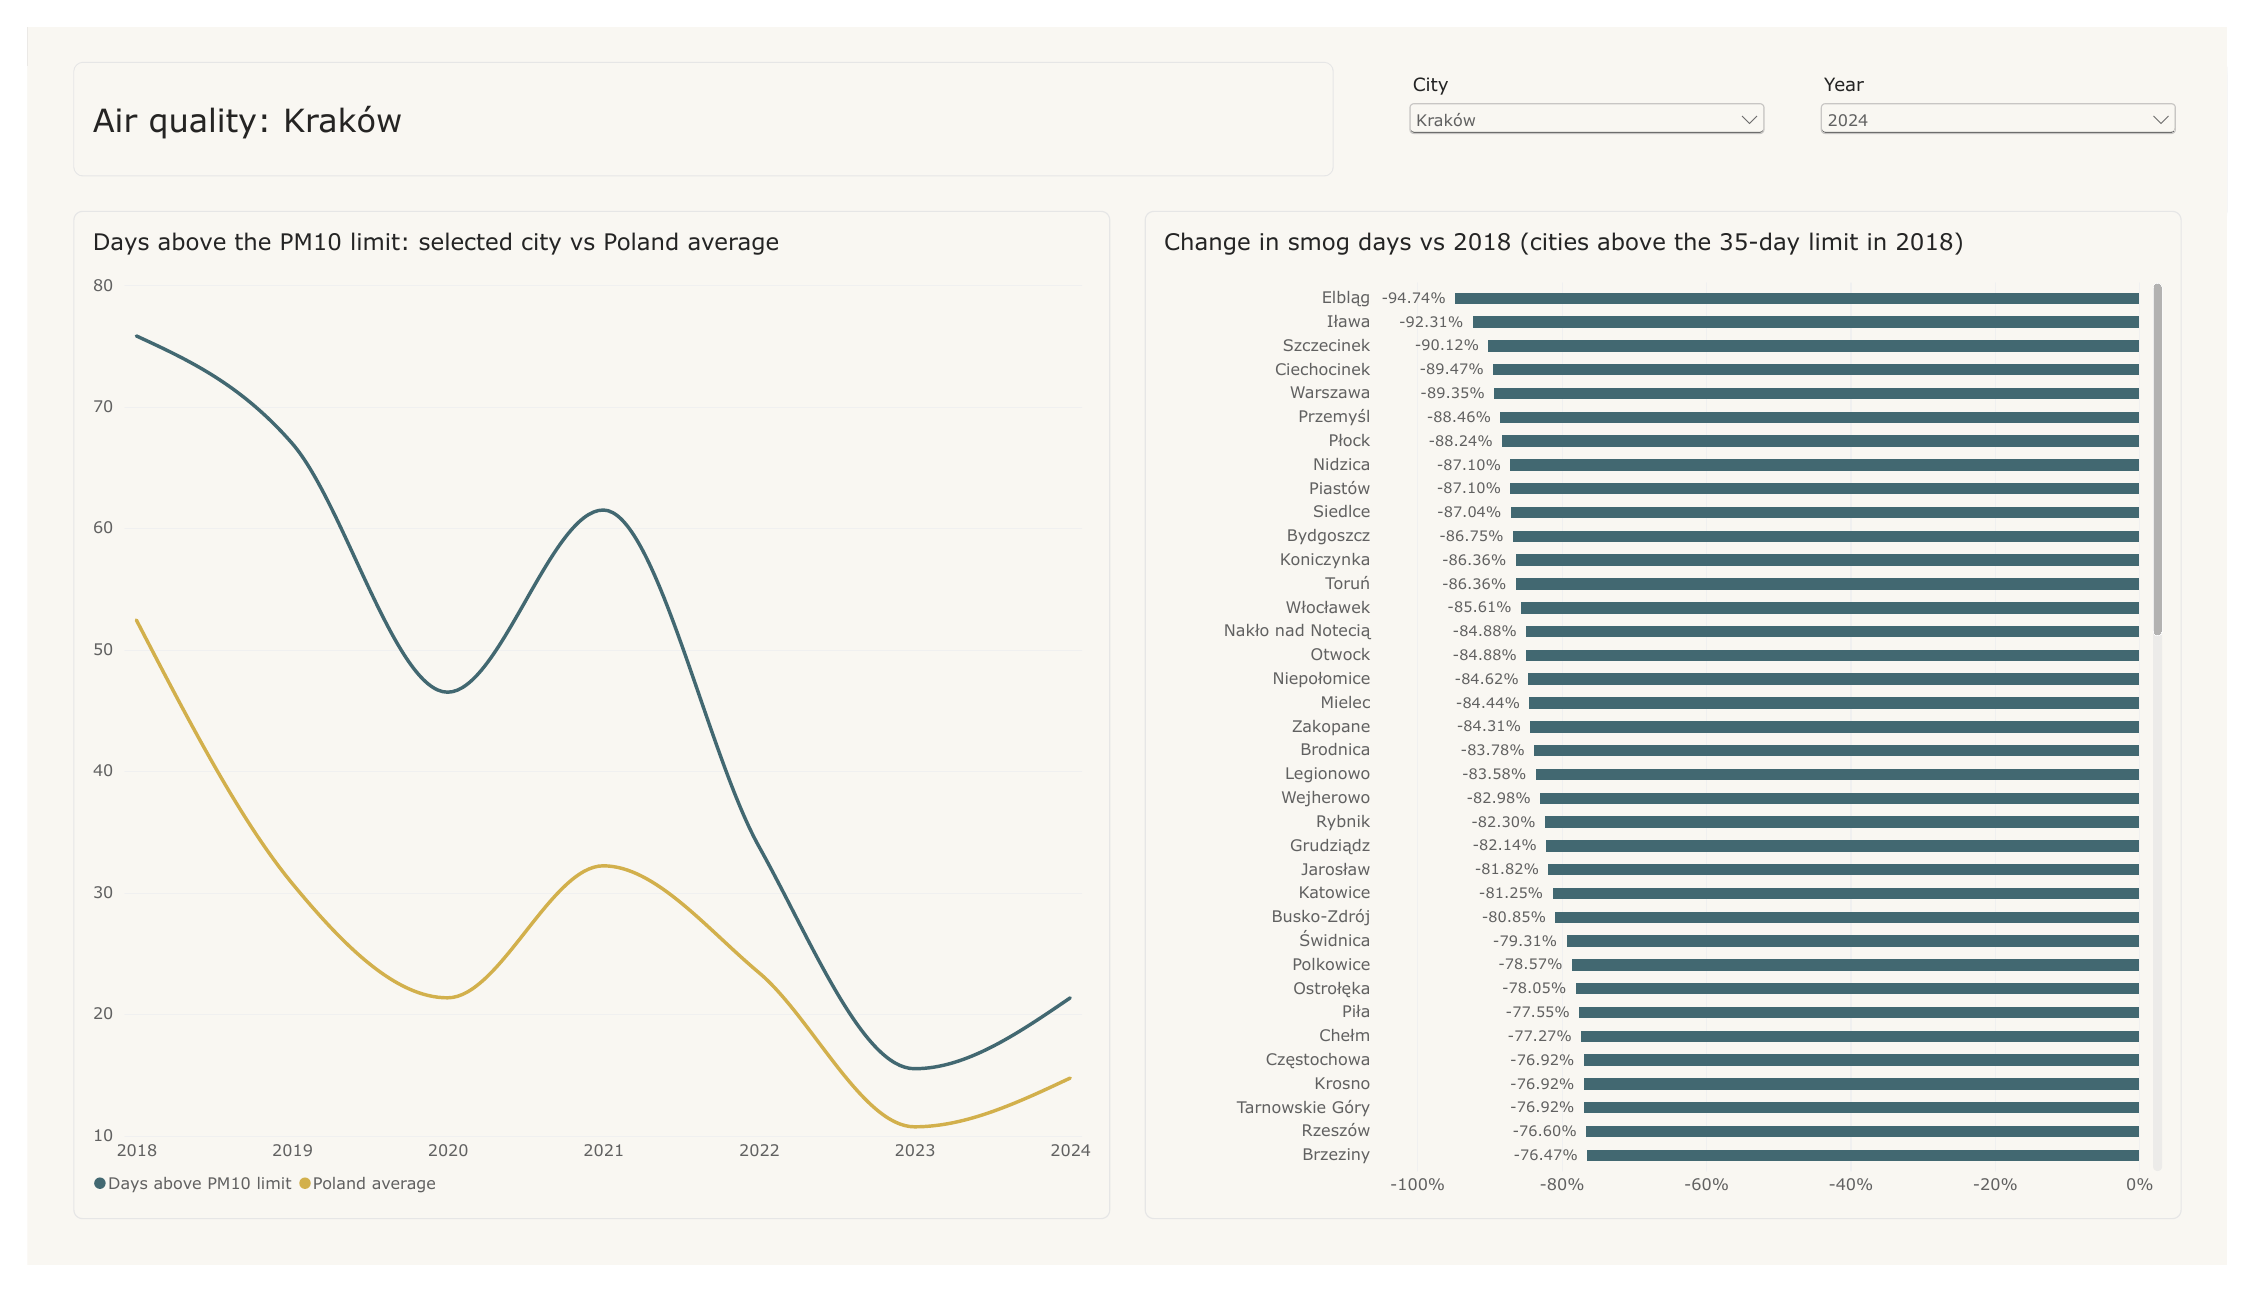

This screenshot's page, from the dashboard's own definition file:
{"tool":"powerbi","page":{"name":"City vs Poland","canvas":[1920,1080],"ordinal":1},"visuals":[{"type":"slicer","fields":{"Values":["Stacje.Miejscowosc"]},"box":[1201,40,320,80],"z":0},{"type":"slicer","fields":{"Values":["Kalendarz.Rok"]},"box":[1560,40,320,80],"z":1000},{"type":"cardVisual","fields":{"Data":["Pomiary.Tytul strony"]},"box":[40,30,1100,100],"z":2000},{"type":"lineChart","title":"Days above the PM10 limit: selected city vs Poland average","fields":{"Category":["Kalendarz.Rok"],"Y":["Pomiary.Dni ponad normą PM10","Pomiary.Dni PM10 Polska"]},"box":[40,160,905,880],"z":3000},{"type":"clusteredBarChart","title":"Change in smog days vs 2018 (cities above the 35-day limit in 2018)","fields":{"Category":["Stacje.Miejscowosc"],"Y":["Pomiary.Zmiana dni smogowych vs 2018"]},"box":[975,160,905,880],"z":4000}]}

Visuals, with their boxes in screenshot pixels (x1, y1, x2, y2), scaled from the page's 1920x1080 canvas onto the 2255x1293 screenshot:
slicer - Stacje.Miejscowosc: locate(1411, 48, 1786, 144)
slicer - Kalendarz.Rok: locate(1832, 48, 2208, 144)
cardVisual - Pomiary.Tytul strony: locate(47, 36, 1339, 156)
"Days above the PM10 limit: selected city vs Poland average" lineChart: locate(47, 192, 1110, 1245)
"Change in smog days vs 2018 (cities above the 35-day limit in 2018)" clusteredBarChart: locate(1145, 192, 2208, 1245)
